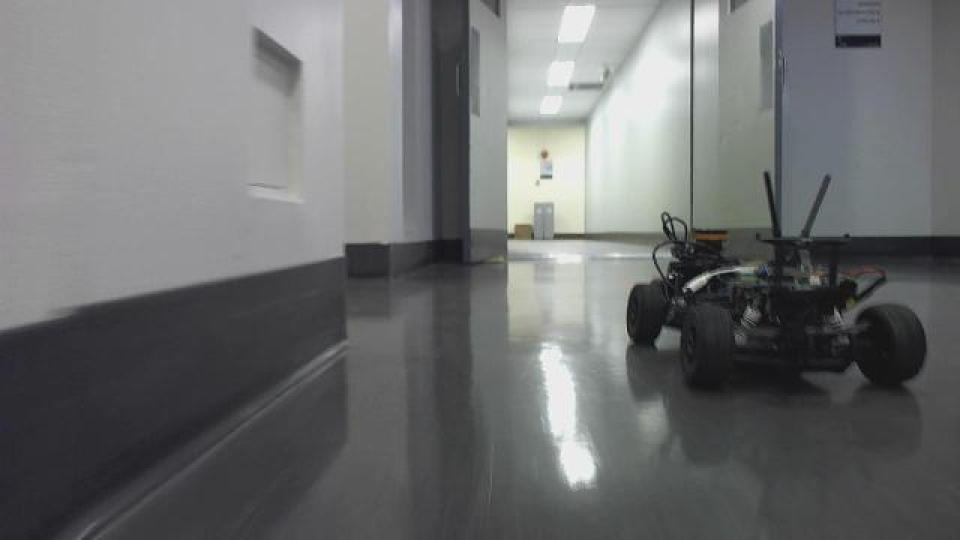car: (622, 168, 929, 393)
